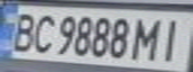8: (109, 13, 136, 60), (90, 12, 115, 59), (72, 12, 96, 57)
9: (51, 11, 78, 56)
B: (3, 9, 42, 53)
C: (27, 10, 57, 55)
I: (154, 15, 190, 63)
M: (127, 15, 169, 62)
